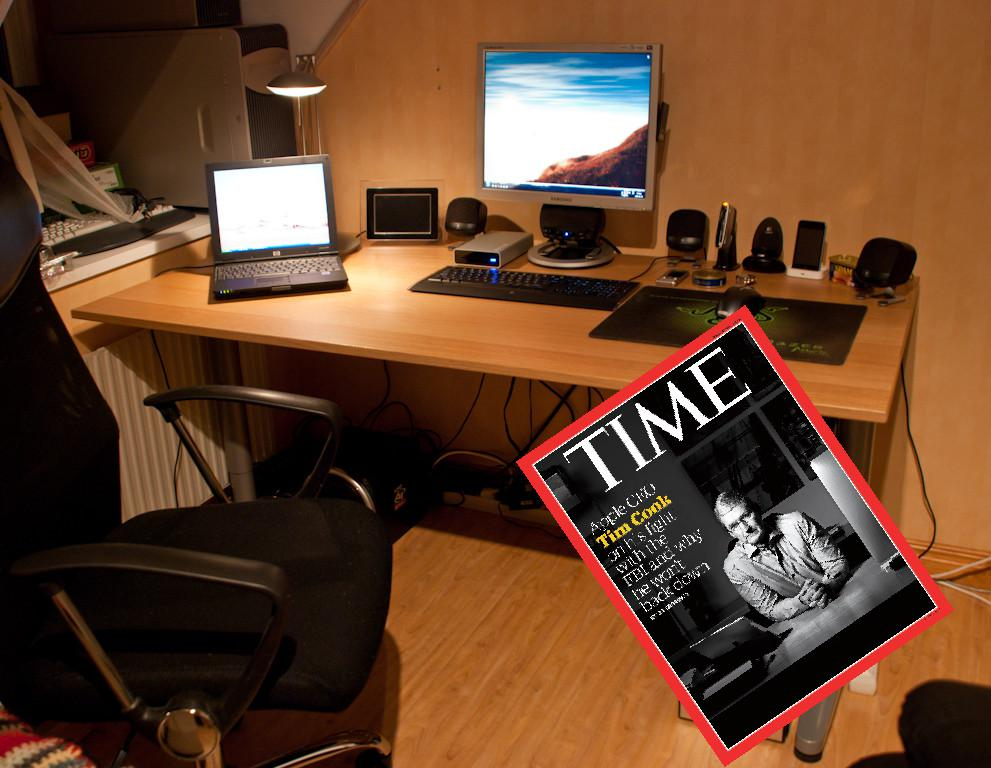times: (515, 305, 951, 768)
